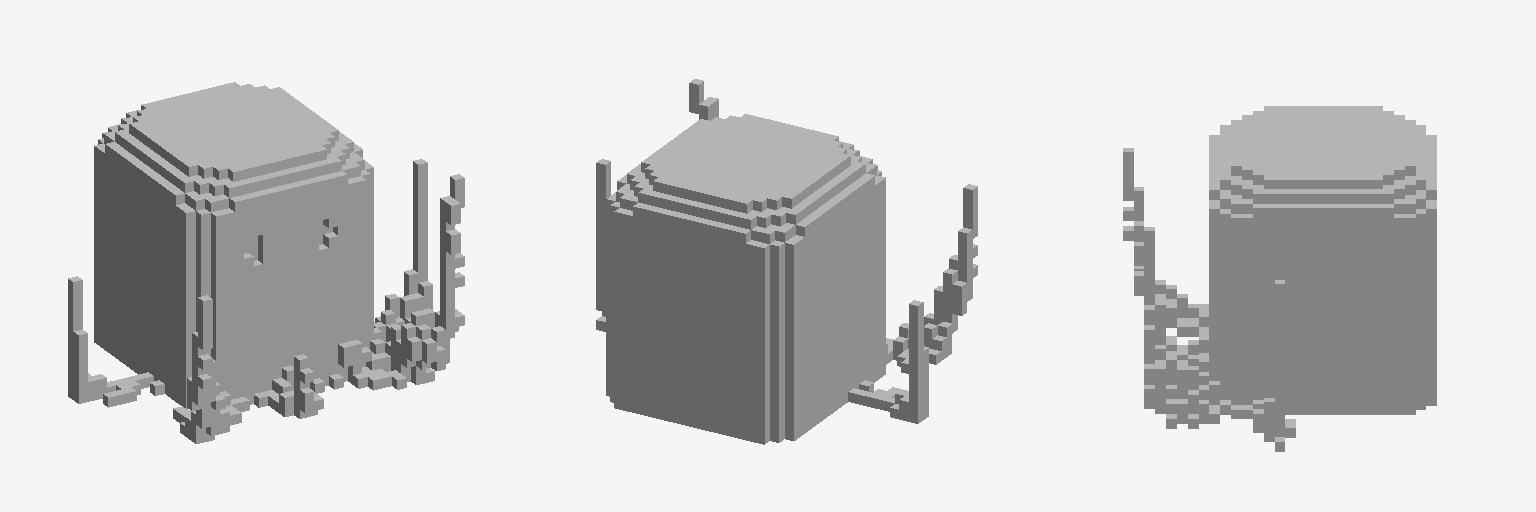
The model's file is MONSTER.obj.
3 renders of one model, left to right at view 1: azimuth 30°, elevation 25°; view 2: azimuth 150°, elevation 25°; view 3: azimuth 270°, elevation 25°, orthographic.
Visible parts, largest first — view 1: Untitled; view 2: Untitled; view 3: Untitled.
Part boxes in pixels (left/top/right/bottom): Untitled: left=68, top=82, right=464, bottom=443; Untitled: left=596, top=79, right=977, bottom=444; Untitled: left=1123, top=106, right=1436, bottom=451.
Size of the model in its own units: 3.6 by 2.3 by 2.9.